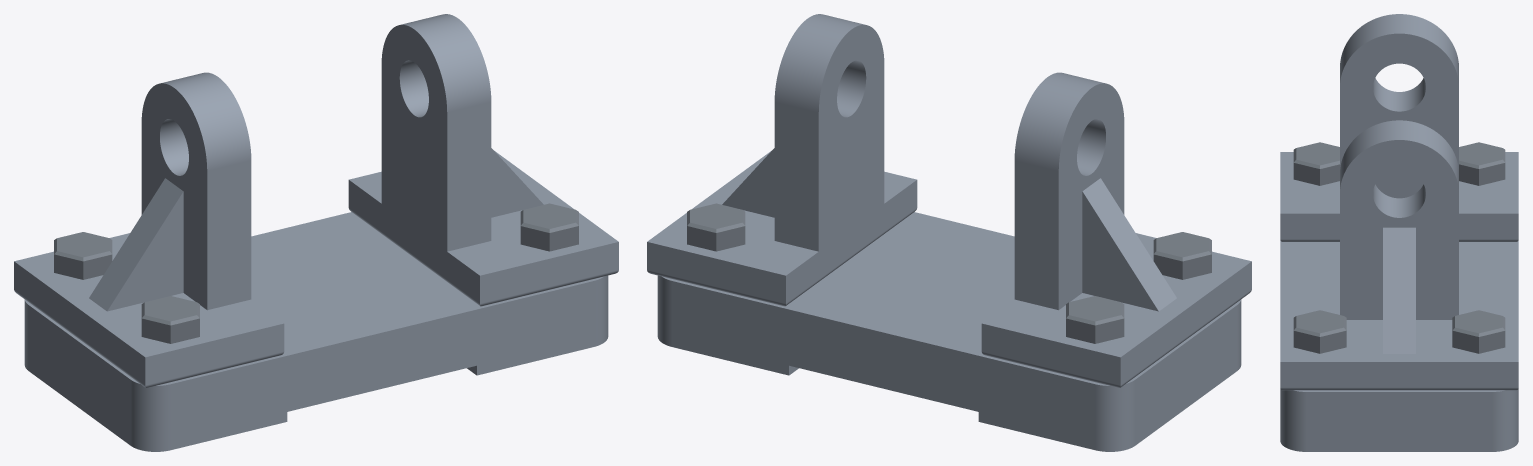
Rendered from step_18.glb.
The picture shows the model from 3 angles, left to right: view 1: azimuth 30°, elevation 25°; view 2: azimuth 150°, elevation 25°; view 3: azimuth 270°, elevation 25°; orthographic projection. The views are drawn at different scales.
Visible parts, largest first — view 1: part__base, part__bracket (left), part__bracket (right), part__hex bolt 1, part__hex bolt 3, part__hex bolt 4; view 2: part__base, part__bracket (left), part__bracket (right), part__hex bolt 2, part__hex bolt 4, part__hex bolt 3; view 3: part__bracket (right), part__base, part__bracket (left), part__hex bolt 1, part__hex bolt 2, part__hex bolt 3, part__hex bolt 4.
Part boxes in pixels (box(x1,y1,x2,y2)): part__base: box(24, 212, 608, 451); part__bracket (left): box(14, 72, 284, 387); part__bracket (right): box(348, 14, 618, 306); part__hex bolt 1: box(520, 203, 578, 251); part__hex bolt 3: box(141, 296, 199, 343); part__hex bolt 4: box(54, 232, 112, 279); part__base: box(657, 212, 1241, 451); part__bracket (left): box(981, 72, 1251, 387); part__bracket (right): box(647, 14, 917, 306); part__hex bolt 2: box(687, 203, 745, 251); part__hex bolt 4: box(1066, 296, 1124, 343); part__hex bolt 3: box(1153, 232, 1211, 279); part__bracket (right): box(1280, 120, 1518, 390); part__base: box(1280, 240, 1518, 451); part__bracket (left): box(1280, 14, 1518, 241); part__hex bolt 1: box(1293, 310, 1346, 353); part__hex bolt 2: box(1452, 310, 1505, 353); part__hex bolt 3: box(1293, 142, 1339, 185); part__hex bolt 4: box(1459, 142, 1505, 185).
Size of the model in its own units: 150 by 90 by 72.
